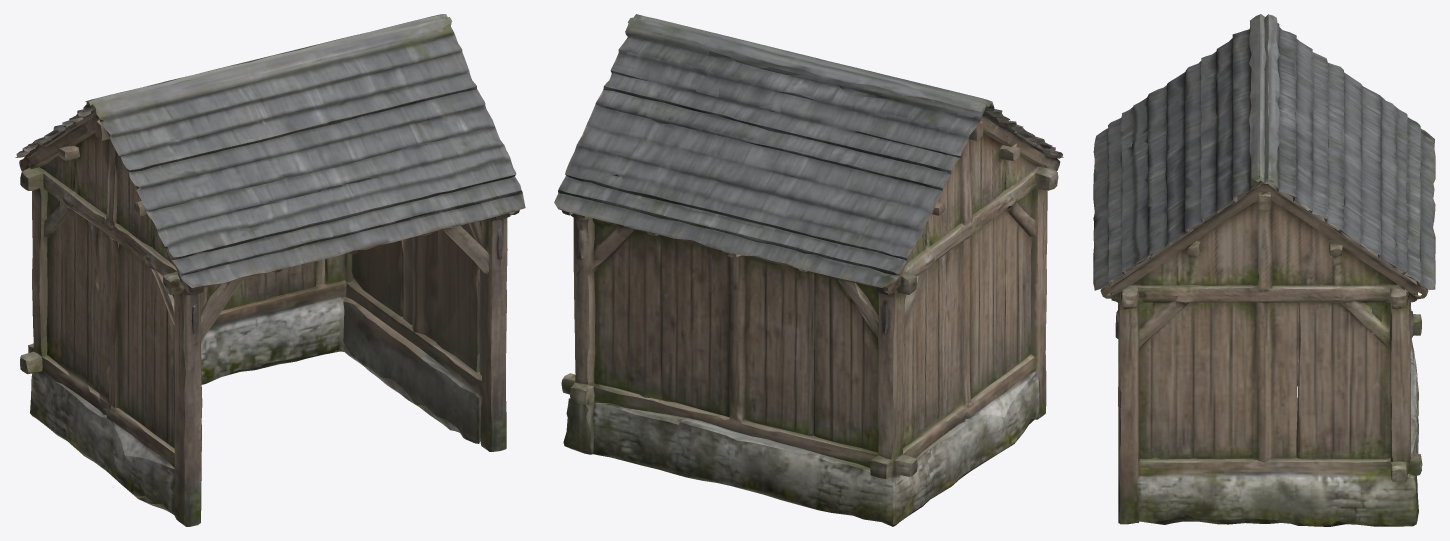
The model's file is carriage_shed.glb.
3 views of the same model, side by side, from view 1: azimuth 30°, elevation 25°; view 2: azimuth 150°, elevation 25°; view 3: azimuth 270°, elevation 25° (orthographic). The views are drawn at different scales.
Parts seen in each view (by area): view 1: geometry_0; view 2: geometry_0; view 3: geometry_0.
Part boxes in pixels (x1,y1,x2,y2): geometry_0: [15, 14, 525, 526]; geometry_0: [554, 14, 1063, 526]; geometry_0: [1093, 14, 1435, 526].
Size of the model in its own units: 3 by 3 by 2.62.
1 material, 1 textured.
